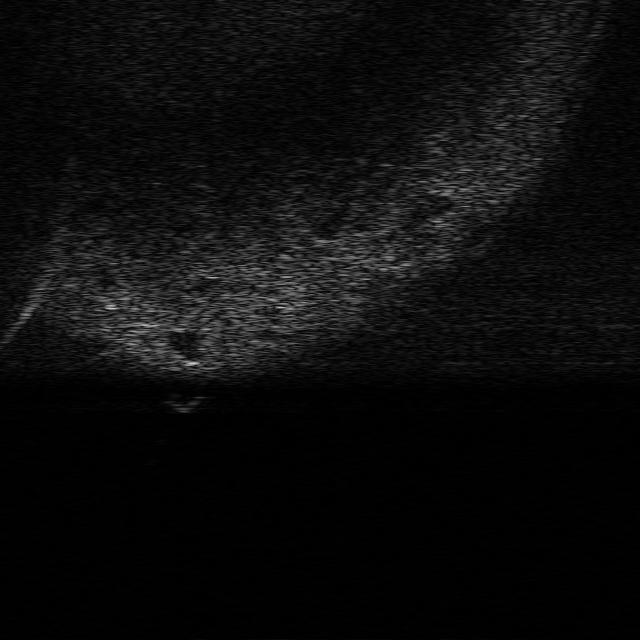cube: (162, 391, 210, 413)
